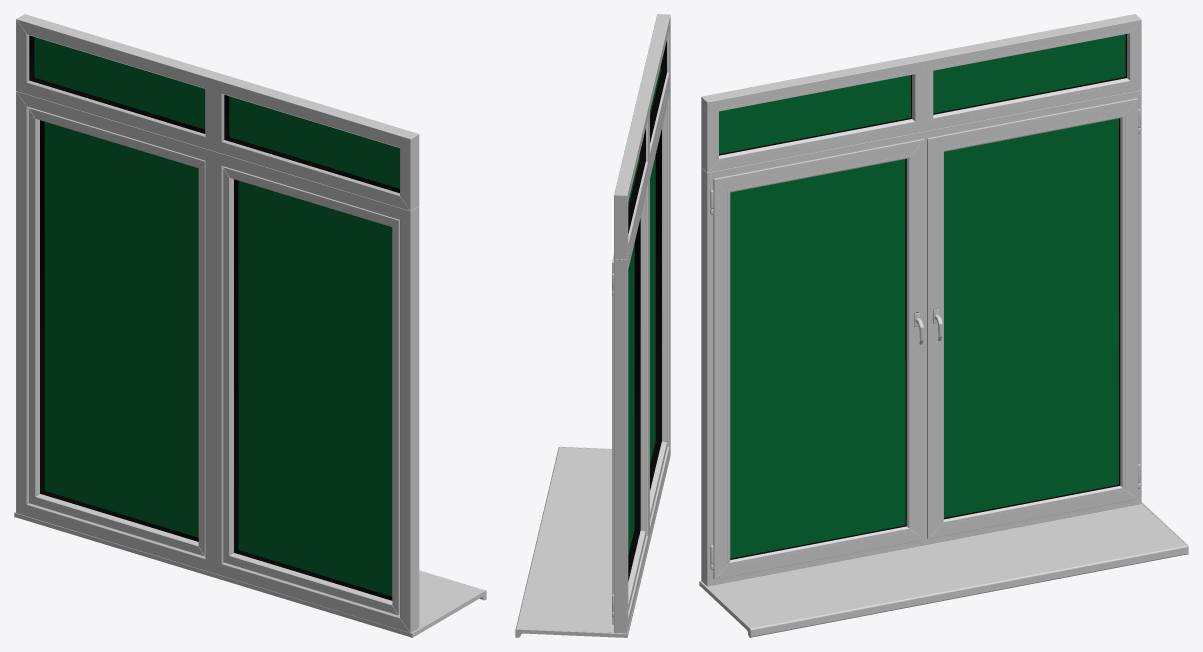
3 renders of one model, left to right at view 1: azimuth 30°, elevation 25°; view 2: azimuth 150°, elevation 25°; view 3: azimuth 270°, elevation 25°, orthographic. The views are drawn at different scales.
Parts seen in each view (by area): view 1: окно; view 2: окно; view 3: окно.
Boxes of the visible parts, left/top/right/bottom form: окно: left=14, top=14, right=486, bottom=637; окно: left=515, top=14, right=670, bottom=637; окно: left=699, top=14, right=1188, bottom=637.
Bounding box in the file's own units: 1236 × 2158 × 1941.
